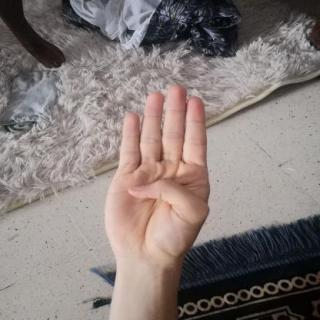KAAF: (91, 76, 225, 279)
